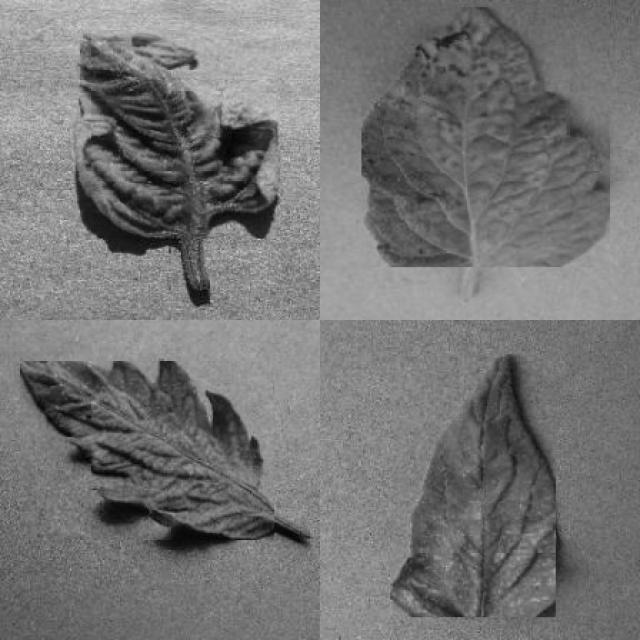Mosaic Virus: (20, 360, 274, 540)
Septoria: (362, 7, 611, 267)
Spider Mites: (390, 354, 556, 617)
Yellow Leaf Curl Virus: (72, 31, 280, 239)
